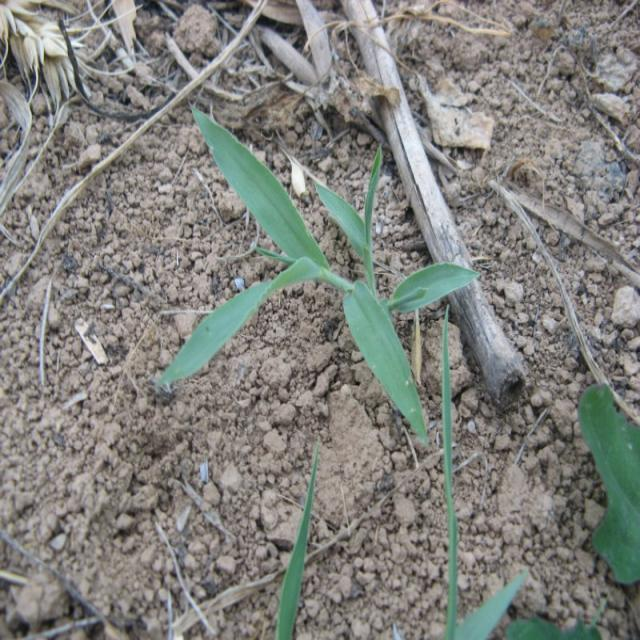bg: (150, 106, 474, 464)
